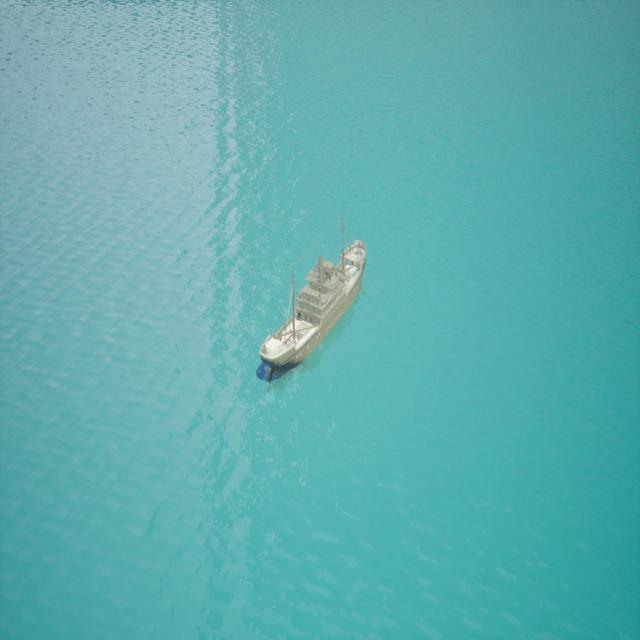fishing ship: (258, 243, 367, 380)
